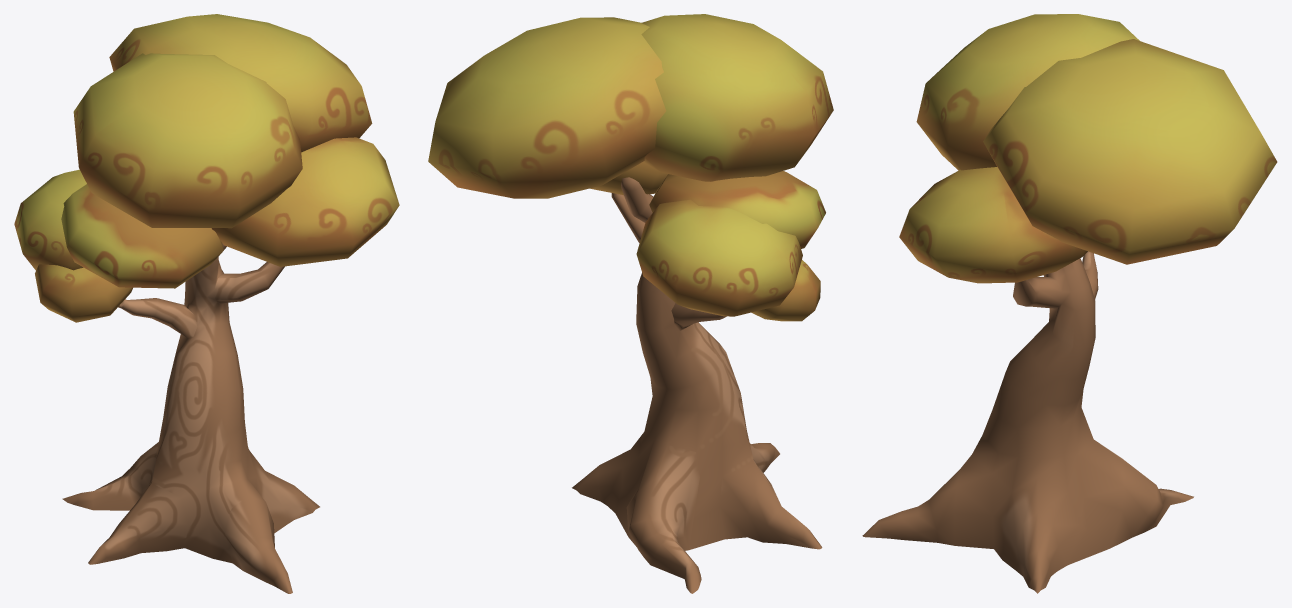
Rendered from Tree_Yellow.fbx.
The picture shows the model from 3 angles, left to right: view 1: azimuth 30°, elevation 25°; view 2: azimuth 150°, elevation 25°; view 3: azimuth 270°, elevation 25°; orthographic projection. The views are drawn at different scales.
Parts seen in each view (by area): view 1: Tree, Leaf6, Leaf2, Leaf5, Leaf4, Leaf1, Leaf3; view 2: Tree, Leaf2, Leaf6, Leaf1, Leaf4, Leaf3, Leaf5; view 3: Leaf2, Tree, Leaf6, Leaf5.
Boxes of the visible parts, x1,y1,x2,y2 form: Tree: [62, 243, 319, 593]; Leaf6: [73, 53, 302, 228]; Leaf2: [109, 14, 372, 152]; Leaf5: [211, 137, 399, 266]; Leaf4: [61, 184, 223, 288]; Leaf1: [14, 169, 86, 270]; Leaf3: [35, 264, 132, 322]; Tree: [572, 177, 822, 593]; Leaf2: [428, 17, 666, 198]; Leaf6: [641, 14, 833, 181]; Leaf1: [636, 199, 802, 316]; Leaf4: [649, 171, 825, 248]; Leaf3: [751, 260, 820, 321]; Leaf5: [590, 162, 667, 195]; Leaf2: [983, 39, 1277, 264]; Tree: [862, 251, 1193, 593]; Leaf6: [916, 14, 1139, 170]; Leaf5: [899, 167, 1087, 283].
Size of the model in its own units: 50.78 by 68 by 51.37.
Materials: 2 (2 with a texture image).
